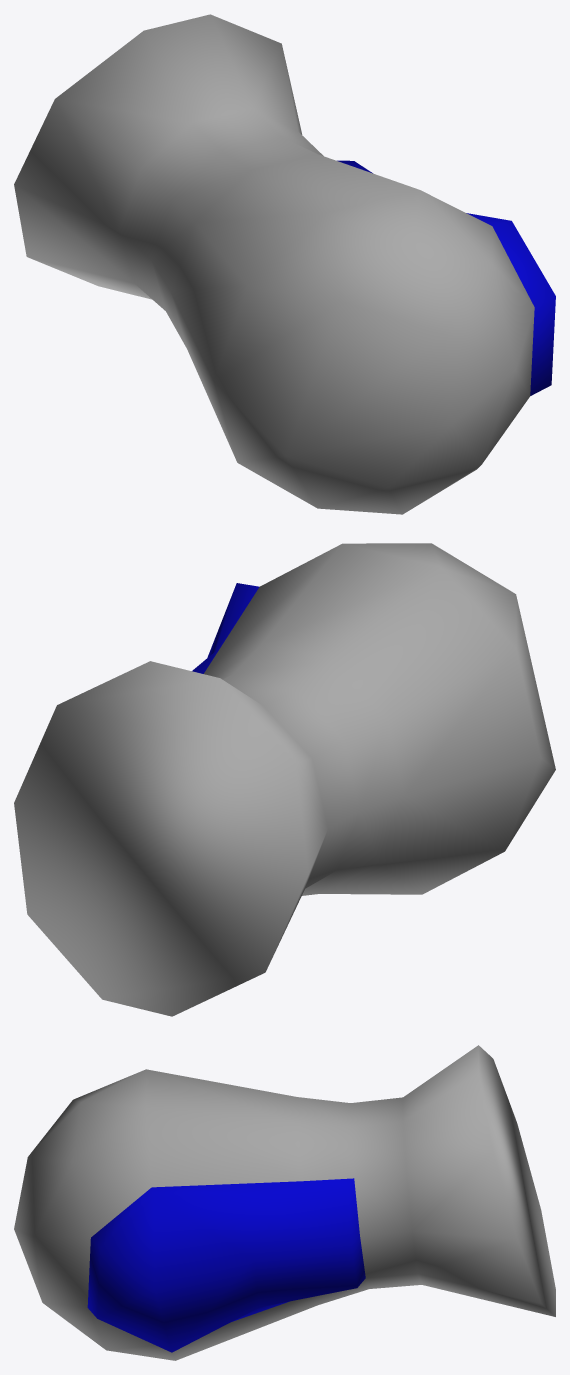
Rendered from rthigh.obj.
3 views of the same model, one above another, from view 1: azimuth 30°, elevation 25°; view 2: azimuth 150°, elevation 25°; view 3: azimuth 270°, elevation 25° (orthographic). The views are drawn at different scales.
Parts seen in each view (by area): view 1: thigh.000_Sphere.003; view 2: thigh.000_Sphere.003; view 3: thigh.000_Sphere.003.
Part boxes in pixels (x1,y1,x2,y2): thigh.000_Sphere.003: (14,14,555,514); thigh.000_Sphere.003: (14,543,555,1016); thigh.000_Sphere.003: (14,1045,555,1360).
Size of the model in its own units: 1.52 by 1.48 by 2.57.
